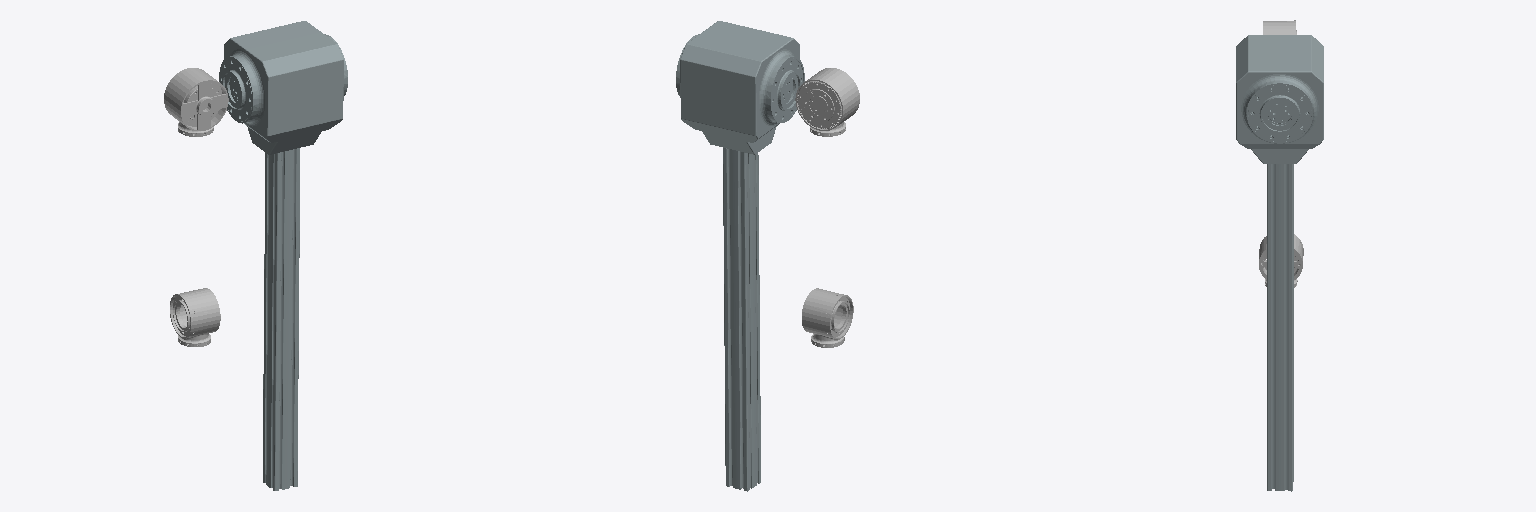
URDF robot description (arha_description):
<?xml version="1.0" encoding="utf-8"?>
<!-- This URDF was automatically created by SolidWorks to URDF Exporter! Originally created by [author] ([email redacted])
     Commit Version: 1.6.0-4-g7f85cfe  Build Version: 1.6.7995.38578
     For more information, please see http://wiki.ros.org/sw_urdf_exporter -->
<robot
  name="arha_description">
  <link name="world_link"/>
  <joint name="world_joint" type="fixed">
    <parent link="world_link"/>
    <child link="base_link"/>
    <origin xyz="0 0 0" rpy="0 0 0"/>
  </joint>
  <link
    name="base_link">
    <inertial>
      <origin
        xyz="0.00486222622577581 0.45717497743252 -0.0249847706754774"
        rpy="0 0 0" />
      <mass
        value="50.0" />
      <inertia
        ixx="0.045250217381864"
        ixy="-0.000391647507311458"
        ixz="-1.16032760425876E-18"
        iyy="0.000375276048602199"
        iyz="-9.77511439648212E-18"
        izz="0.0452536352378809" />
    </inertial>
    <visual>
      <origin
        xyz="0 0 0"
        rpy="0 0 0" />
      <geometry>
        <mesh
          filename="package://arha_description/meshes/base_link.STL" />
      </geometry>
      <material
        name="">
        <color
          rgba="0.611764705882353 0.658823529411765 0.670588235294118 1" />
      </material>
    </visual>
    <collision>
      <origin
        xyz="0 0 0"
        rpy="0 0 0" />
      <geometry>
        <mesh
          filename="package://arha_description/meshes/base_link.STL" />
      </geometry>
    </collision>
  </link>
  <link
    name="chest_link">
    <inertial>
      <origin
        xyz="-0.103578651729946 -0.000788072396643393 -0.0161664731766626"
        rpy="0 0 0" />
      <mass
        value="1.36841316789851" />
      <inertia
        ixx="0.00489050738637658"
        ixy="-1.05236493836224E-06"
        ixz="3.5996291040505E-07"
        iyy="0.00618645338476801"
        iyz="9.75907806329965E-05"
        izz="0.00331113448739452" />
    </inertial>
    <visual>
      <origin
        xyz="0.0 0 0"
        rpy="0 0 0" />
      <geometry>
        <mesh
          filename="package://arha_description/meshes/chest_link.STL" />
      </geometry>
      <material
        name="">
        <color
          rgba="0.611764705882353 0.658823529411765 0.670588235294118 1" />
      </material>
    </visual>
    <collision>
      <origin
        xyz="0 0 0"
        rpy="0 0 0" />
      <geometry>
        <mesh
          filename="package://arha_description/meshes/chest_link.STL" />
      </geometry>
    </collision>
  </link>
  <joint
    name="chest_joint"
    type="fixed">
    <origin
      xyz="0.11179 0.024169 0.84302"
      rpy="0 0.0087266 0" />
    <parent
      link="base_link" />
    <child
      link="chest_link" />
    <axis
      xyz="0 0 0" />
  </joint>
  <link
    name="ShoulderRU_link">
    <inertial>
      <origin
        xyz="0.000633904463091112 0.0632876622043777 0.000131520545503583"
        rpy="0 0 0" />
      <mass
        value="0.437859351944568" />
      <inertia
        ixx="0.000761320903037865"
        ixy="0.00010323291048724"
        ixz="5.11545980849188E-05"
        iyy="0.000480494505765443"
        iyz="3.08585694704881E-05"
        izz="0.000607510739616738" />
    </inertial>
    <visual>
      <origin
        xyz="0 0 0"
        rpy="0 0 0" />
      <geometry>
        <mesh
          filename="package://arha_description/meshes/ShoulderRU_link.STL" />
      </geometry>
      <material
        name="">
        <color
          rgba="0.752941176470588 0.752941176470588 0.752941176470588 1" />
      </material>
    </visual>
    <collision>
      <origin
        xyz="0 0 0"
        rpy="0 0 0" />
      <geometry>
        <mesh
          filename="package://arha_description/meshes/ShoulderRU_link.STL" />
      </geometry>
    </collision>
  </link>
  <joint
    name="ShoulderRU_joint"
    type="revolute">
    <origin
      xyz="-0.20263 0.0018367 0"
      rpy="3.1416 -0.28499 -1.5708" />
    <parent
      link="chest_link" />
    <child
      link="ShoulderRU_link" />
    <axis
      xyz="0 1 0" />
    <limit
      lower="-1.5708"
      upper="1.5708"
      effort="100"
      velocity="5.235988" />
  </joint>
  <link
    name="ShoulderRD_link">
    <inertial>
      <origin
        xyz="0.0130603185121422 4.03570967780209E-05 -0.0159605216469788"
        rpy="0 0 0" />
      <mass
        value="0.121271833885802" />
      <inertia
        ixx="0.000264584071728155"
        ixy="-1.73910560956384E-07"
        ixz="2.35095904760613E-05"
        iyy="0.0002153613724785"
        iyz="2.22817405287246E-08"
        izz="0.000144313566137142" />
    </inertial>
    <visual>
      <origin
        xyz="0 0 0"
        rpy="0 0 0" />
      <geometry>
        <mesh
          filename="package://arha_description/meshes/ShoulderRD_link.STL" />
      </geometry>
      <material
        name="">
        <color
          rgba="0.752941176470588 0.752941176470588 0.752941176470588 1" />
      </material>
    </visual>
    <collision>
      <origin
        xyz="0 0 0"
        rpy="0 0 0" />
      <geometry>
        <mesh
          filename="package://arha_description/meshes/ShoulderRD_link.STL" />
      </geometry>
    </collision>
  </link>
  <joint
    name="ShoulderRD_joint"
    type="revolute">
    <origin
      xyz="0 0.091943 0"
      rpy="3.1389 -0.58853 0.00081251" />
    <parent
      link="ShoulderRU_link" />
    <child
      link="ShoulderRD_link" />
    <axis
      xyz="0.95701 0 0.29004" />
    <limit
      lower="-1.5708"
      upper="0"
      effort="60"
      velocity="4.1888" />
  </joint>
  <link
    name="ElbowRU_link">
    <inertial>
      <origin
        xyz="0.056819807604414 0.00130441079169116 -0.161248980507902"
        rpy="0 0 0" />
      <mass
        value="0.43543149660162" />
      <inertia
        ixx="0.00116072652976023"
        ixy="8.04351173911062E-06"
        ixz="0.000205352258430429"
        iyy="0.00150791924798473"
        iyz="4.82193415065212E-07"
        izz="0.000545520215244939" />
    </inertial>
    <visual>
      <origin
        xyz="0 0 0"
        rpy="0 0 0" />
      <geometry>
        <mesh
          filename="package://arha_description/meshes/ElbowRU_link.STL" />
      </geometry>
      <material
        name="">
        <color
          rgba="0.752941176470588 0.752941176470588 0.752941176470588 1" />
      </material>
    </visual>
    <collision>
      <origin
        xyz="0 0 0"
        rpy="0 0 0" />
      <geometry>
        <mesh
          filename="package://arha_description/meshes/ElbowRU_link.STL" />
      </geometry>
    </collision>
  </link>
  <joint
    name="ElbowRU_joint"
    type="revolute">
    <origin
      xyz="0.01 0 0"
      rpy="-0.00017185 0.58853 3.1301" />
    <parent
      link="ShoulderRD_link" />
    <child
      link="ElbowRU_link" />
    <axis
      xyz="0.29004 -0.0015904 -0.95701" />
    <limit
      lower="-1.5708"
      upper="1.5708"
      effort="20"
      velocity="19.897" />
  </joint>
  <link
    name="ElbowRD_link">
    <inertial>
      <origin
        xyz="0.01501721253576 -0.0140086375733101 -0.0537845978405951"
        rpy="0 0 0" />
      <mass
        value="0.405367838897484" />
      <inertia
        ixx="0.000676246989908249"
        ixy="5.55176945002612E-06"
        ixz="6.42141075201969E-05"
        iyy="0.0008794061843227"
        iyz="4.50678755869984E-06"
        izz="0.000469982837398396" />
    </inertial>
    <visual>
      <origin
        xyz="0 0 0"
        rpy="0 0 0" />
      <geometry>
        <mesh
          filename="package://arha_description/meshes/ElbowRD_link.STL" />
      </geometry>
      <material
        name="">
        <color
          rgba="0.752941176470588 0.752941176470588 0.752941176470588 1" />
      </material>
    </visual>
    <collision>
      <origin
        xyz="0 0 0"
        rpy="0 0 0" />
      <geometry>
        <mesh
          filename="package://arha_description/meshes/ElbowRD_link.STL" />
      </geometry>
    </collision>
  </link>
  <joint
    name="ElbowRD_joint"
    type="revolute">
    <origin
      xyz="0.079705 -0.00060472 -0.23692"
      rpy="-4.9565E-05 -0.0018566 -1.1893E-05" />
    <parent
      link="ElbowRU_link" />
    <child
      link="ElbowRD_link" />
    <axis
      xyz="0.026692 0.99962 0.0064283" />
    <limit
      lower="0"
      upper="1.5708"
      effort="60"
      velocity="4.1888" />
  </joint>
  <link
    name="WristRU_link">
    <inertial>
      <origin
        xyz="0.00639012254804167 0.000136393641995469 0.0563198944392286"
        rpy="0 0 0" />
      <mass
        value="0.348222354843636" />
      <inertia
        ixx="0.000507501702429949"
        ixy="1.11373651928209E-07"
        ixz="-9.14391354779642E-05"
        iyy="0.000436522279637755"
        iyz="3.98581053072694E-07"
        izz="0.000266926646371092" />
    </inertial>
    <visual>
      <origin
        xyz="0 0 0"
        rpy="0 0 0" />
      <geometry>
        <mesh
          filename="package://arha_description/meshes/WristRU_link.STL" />
      </geometry>
      <material
        name="">
        <color
          rgba="0.752941176470588 0.752941176470588 0.752941176470588 1" />
      </material>
    </visual>
    <collision>
      <origin
        xyz="0 0 0"
        rpy="0 0 0" />
      <geometry>
        <mesh
          filename="package://arha_description/meshes/WristRU_link.STL" />
      </geometry>
    </collision>
  </link>
  <joint
    name="WristRU_joint"
    type="revolute">
    <origin
      xyz="0.032837 -0.0055583 -0.1128"
      rpy="2.8571 -0.002299 1.5582" />
    <parent
      link="ElbowRD_link" />
    <child
      link="WristRU_link" />
    <axis
      xyz="0 0 1" />
    <limit
      lower="-1.5708"
      upper="1.5708"
      effort="20"
      velocity="19.897" />
  </joint>
  <link
    name="WristRD_link">
    <inertial>
      <origin
        xyz="-0.0007891665998703 0.000668277029161484 0.0143918184359768"
        rpy="0 0 0" />
      <mass
        value="0.144157843696757" />
      <inertia
        ixx="0.000210718602074961"
        ixy="-6.96872467093026E-07"
        ixz="-1.50110128749547E-05"
        iyy="0.000173165649110249"
        iyz="-2.62309383761537E-06"
        izz="0.000116799346279209" />
    </inertial>
    <visual>
      <origin
        xyz="0 0 0"
        rpy="0 0 0" />
      <geometry>
        <mesh
          filename="package://arha_description/meshes/WristRD_link.STL" />
      </geometry>
      <material
        name="">
        <color
          rgba="0.752941176470588 0.752941176470588 0.752941176470588 1" />
      </material>
    </visual>
    <collision>
      <origin
        xyz="0 0 0"
        rpy="0 0 0" />
      <geometry>
        <mesh
          filename="package://arha_description/meshes/WristRD_link.STL" />
      </geometry>
    </collision>
  </link>
  <joint
    name="WristRD_joint"
    type="revolute">
    <origin
      xyz="0 0 0.076226"
      rpy="0.047691 0 0" />
    <parent
      link="WristRU_link" />
    <child
      link="WristRD_link" />
    <axis
      xyz="1 0 0" />
    <limit
      lower="-1.5708"
      upper="1.5708"
      effort="8"
      velocity="32.463" />
  </joint>
</robot>

--- Facts derived from the render (not from the file) ---
Views: 3 orthographic renders of the robot side by side, from view 1: azimuth 30°, elevation 25°; view 2: azimuth 150°, elevation 25°; view 3: azimuth 270°, elevation 25°.
Robot: arha_description — 9 links, 8 joints (6 revolute, 2 fixed); root link world_link; default pose: every joint at zero.
Visible links, largest first — view 1: chest_link, base_link, ShoulderRD_link, WristRD_link; view 2: chest_link, base_link, ShoulderRD_link, WristRD_link; view 3: chest_link, base_link, WristRD_link.
Link boxes in pixels (x1=…): chest_link: x1=219, y1=21, x2=347, y2=154; base_link: x1=263, y1=148, x2=299, y2=490; ShoulderRD_link: x1=164, y1=68, x2=228, y2=136; WristRD_link: x1=170, y1=288, x2=220, y2=346; chest_link: x1=676, y1=21, x2=804, y2=154; base_link: x1=723, y1=148, x2=760, y2=491; ShoulderRD_link: x1=795, y1=68, x2=859, y2=136; WristRD_link: x1=802, y1=288, x2=853, y2=347; chest_link: x1=1236, y1=35, x2=1323, y2=163; base_link: x1=1267, y1=164, x2=1293, y2=491; WristRD_link: x1=1259, y1=234, x2=1303, y2=287.
Size in the robot's own frame: 0.3551 by 0.1688 by 0.924 metres.
Meshes: 8 distinct files referenced, 4 mesh visuals loaded (4 binary STL); not drawn: 4 (reference not matched to a file when rendering).